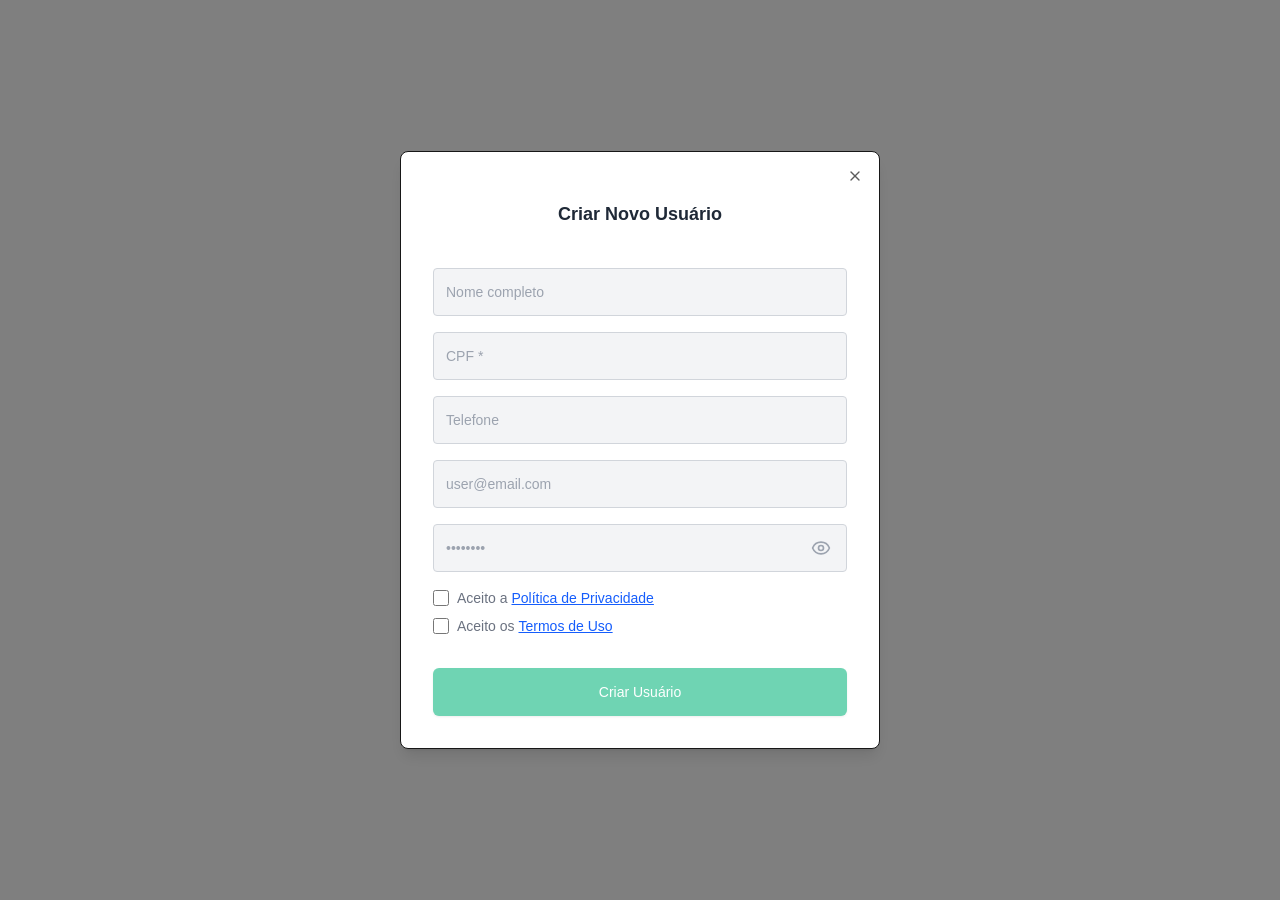
it: CreateUserModal › handles registration error
The image size is (1280, 900).
Preenche o formulário
Type "João Silva" into the field with placeholder "Nome completo" at (640, 292), box [433,268,847,316]
Type "12345678901" into the field with placeholder "CPF *" at (640, 356), box [433,332,847,380]
Type "11987654321" into the field with placeholder "Telefone" at (640, 420), box [433,396,847,444]
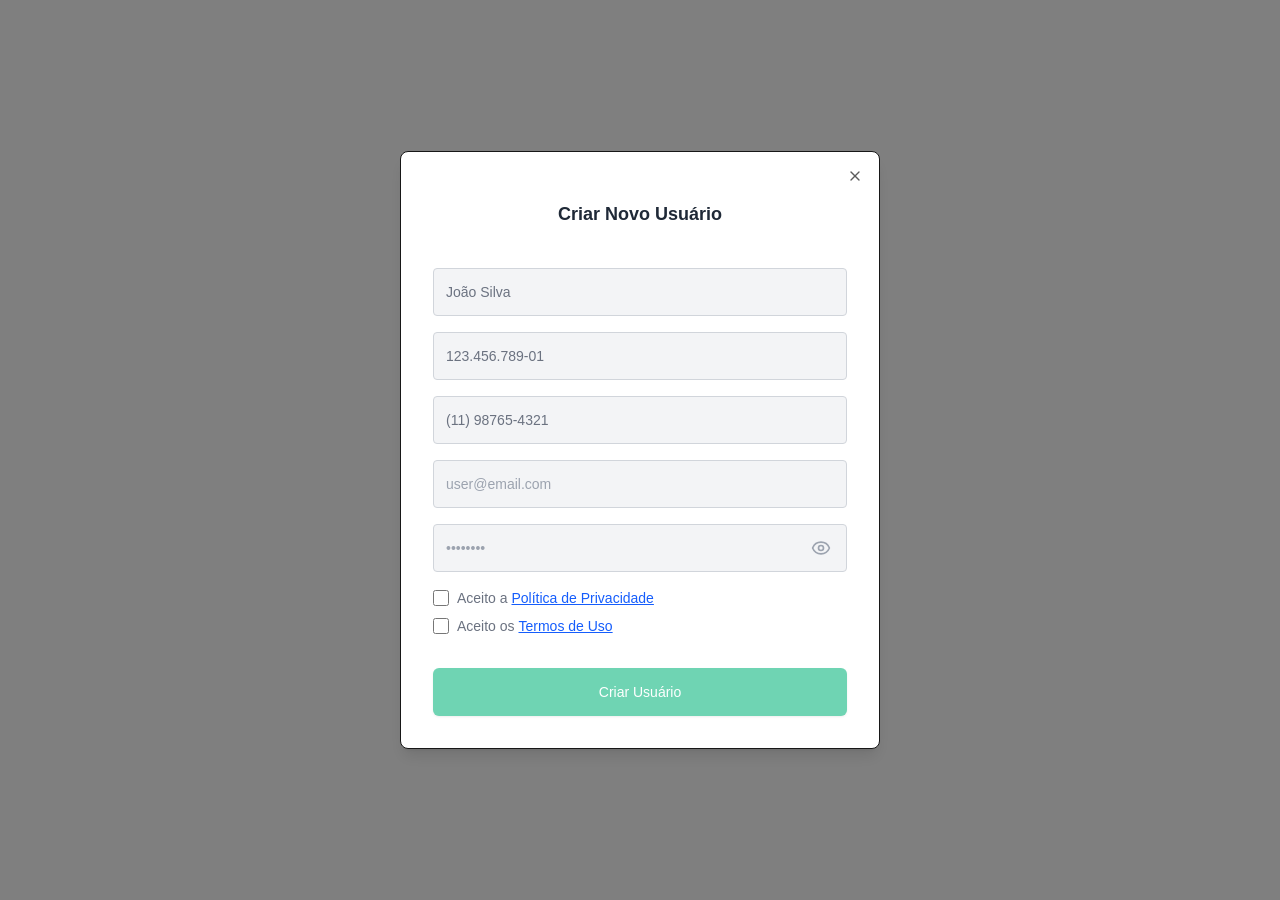
Type "joao@example.com" into the field with placeholder "user@email.com" at (640, 484), box [433,460,847,508]
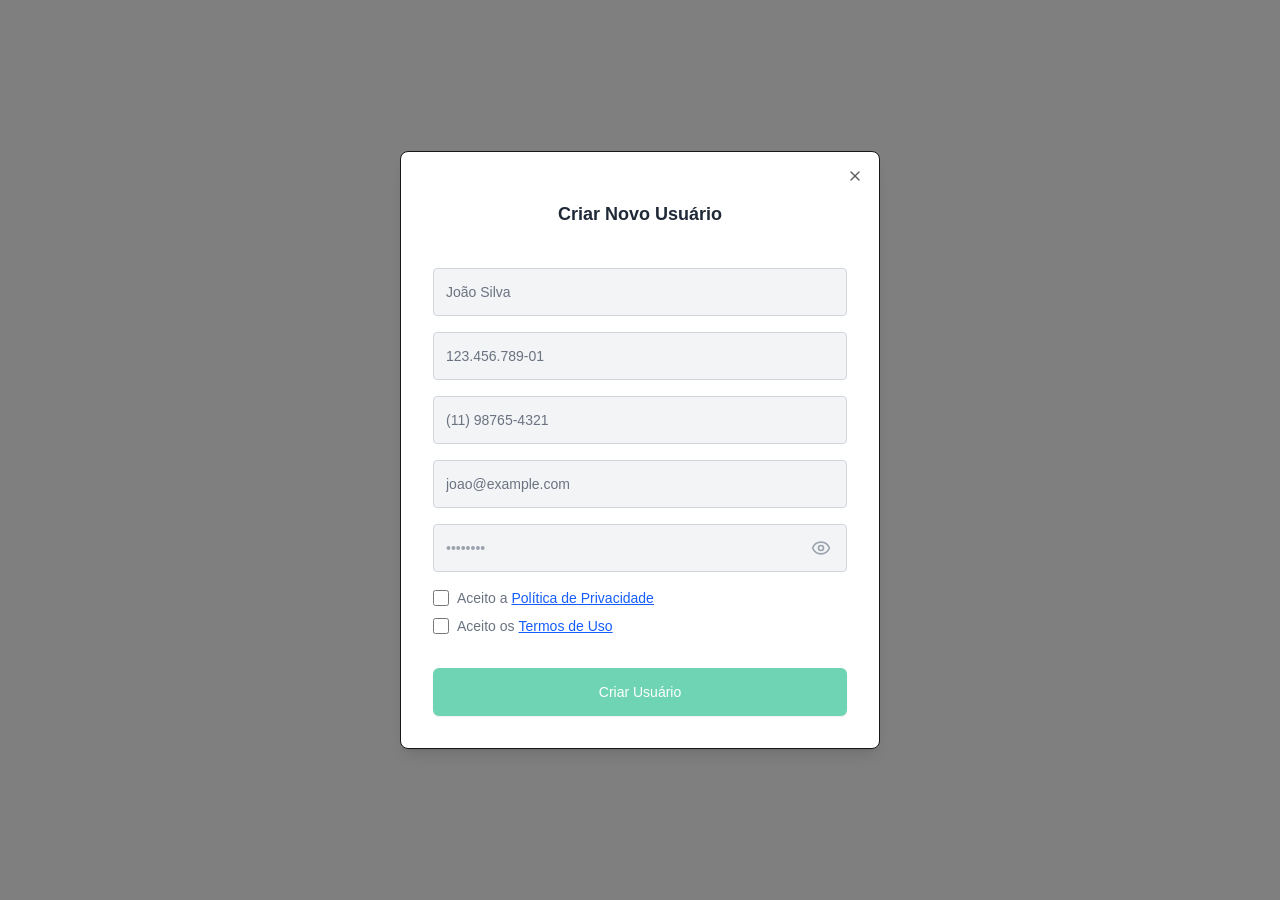
Type "password123" into the password field with placeholder "••••••••" at (640, 548), box [433,524,847,572]
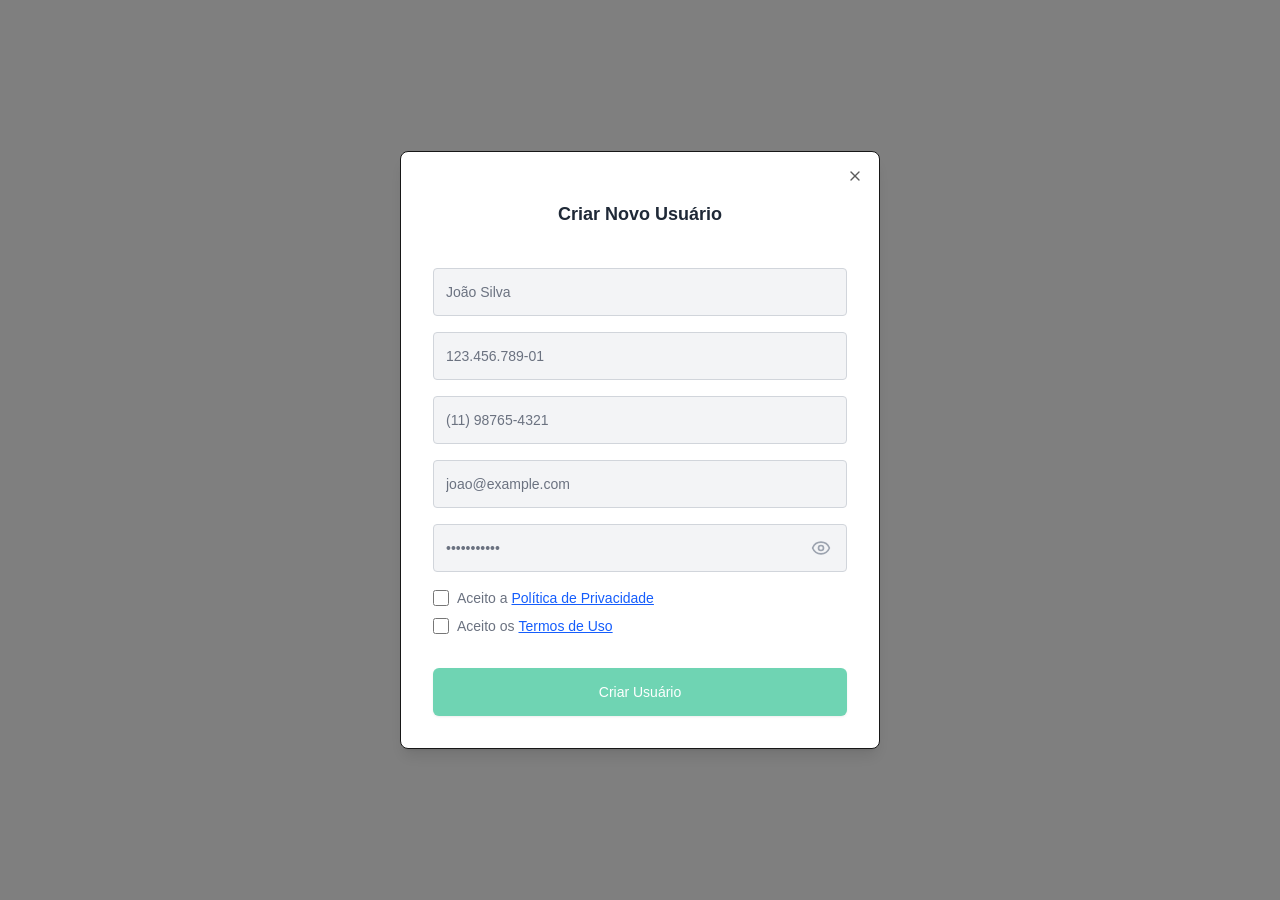
Click the checkbox labelled "Aceito a Política de Privacidade" at (441, 598), box [433,590,449,606]
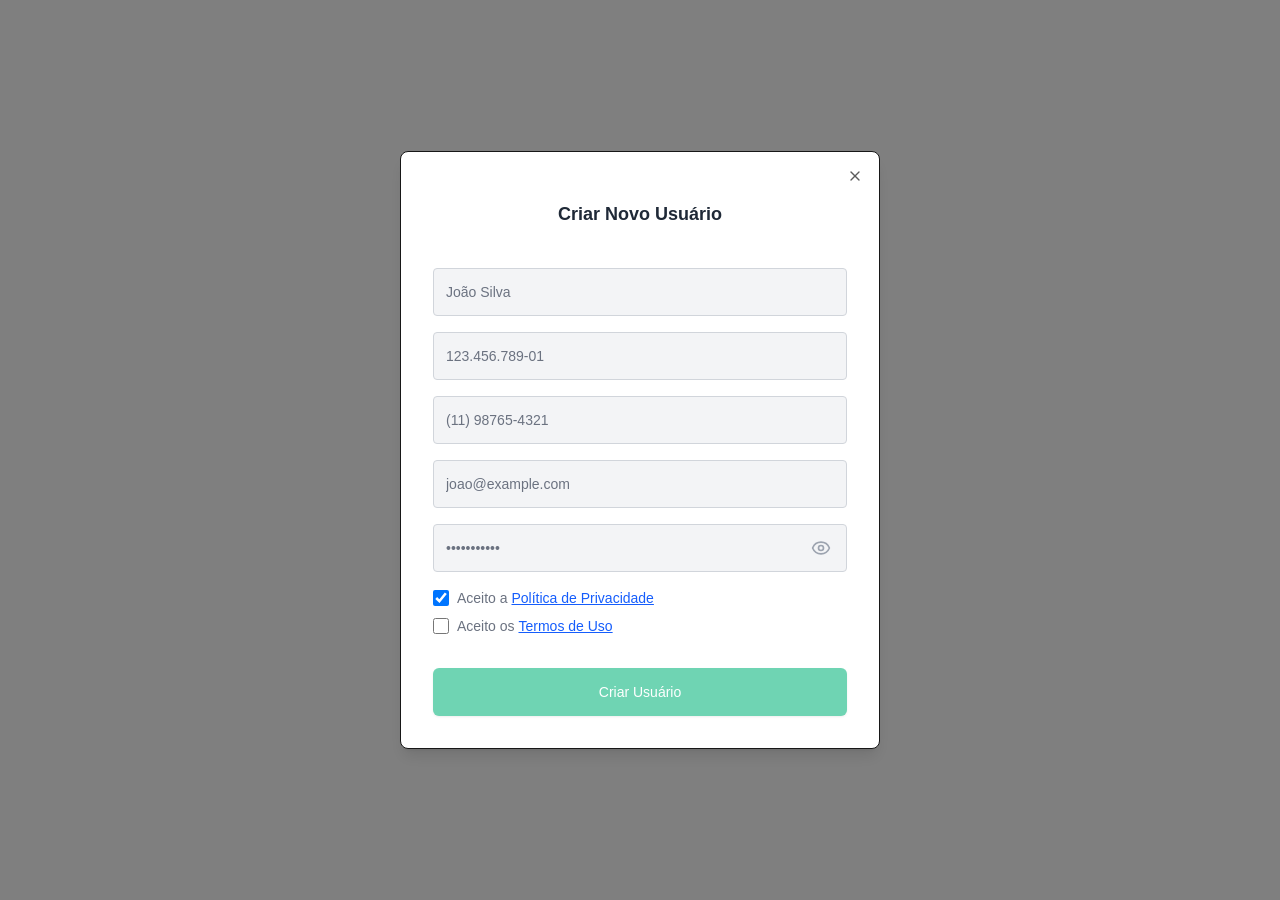
Click the checkbox labelled "Aceito os Termos de Uso" at (441, 626), box [433,618,449,634]
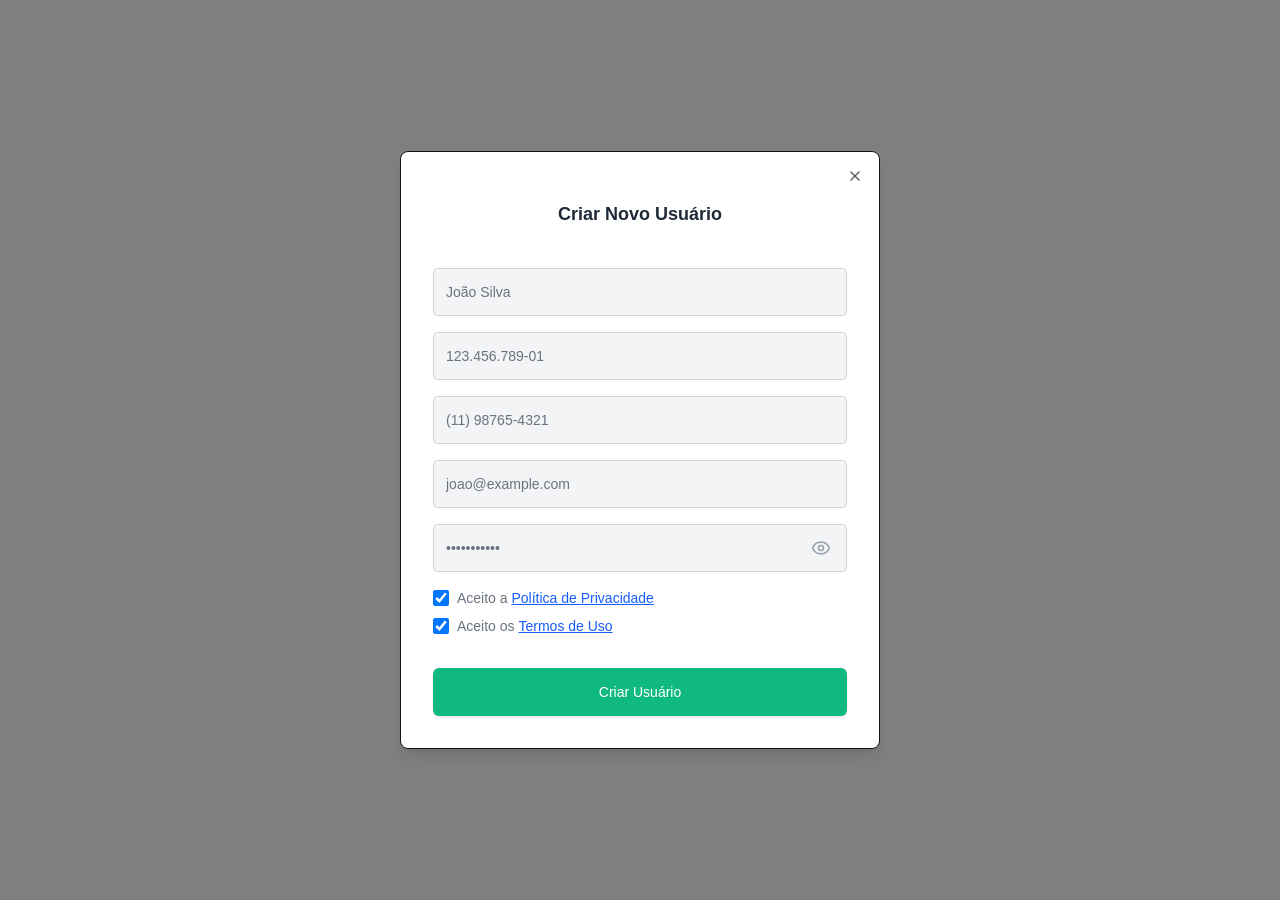
Submete o formulário
Click the button "Criar Usuário" at (640, 692), box [433,668,847,716]
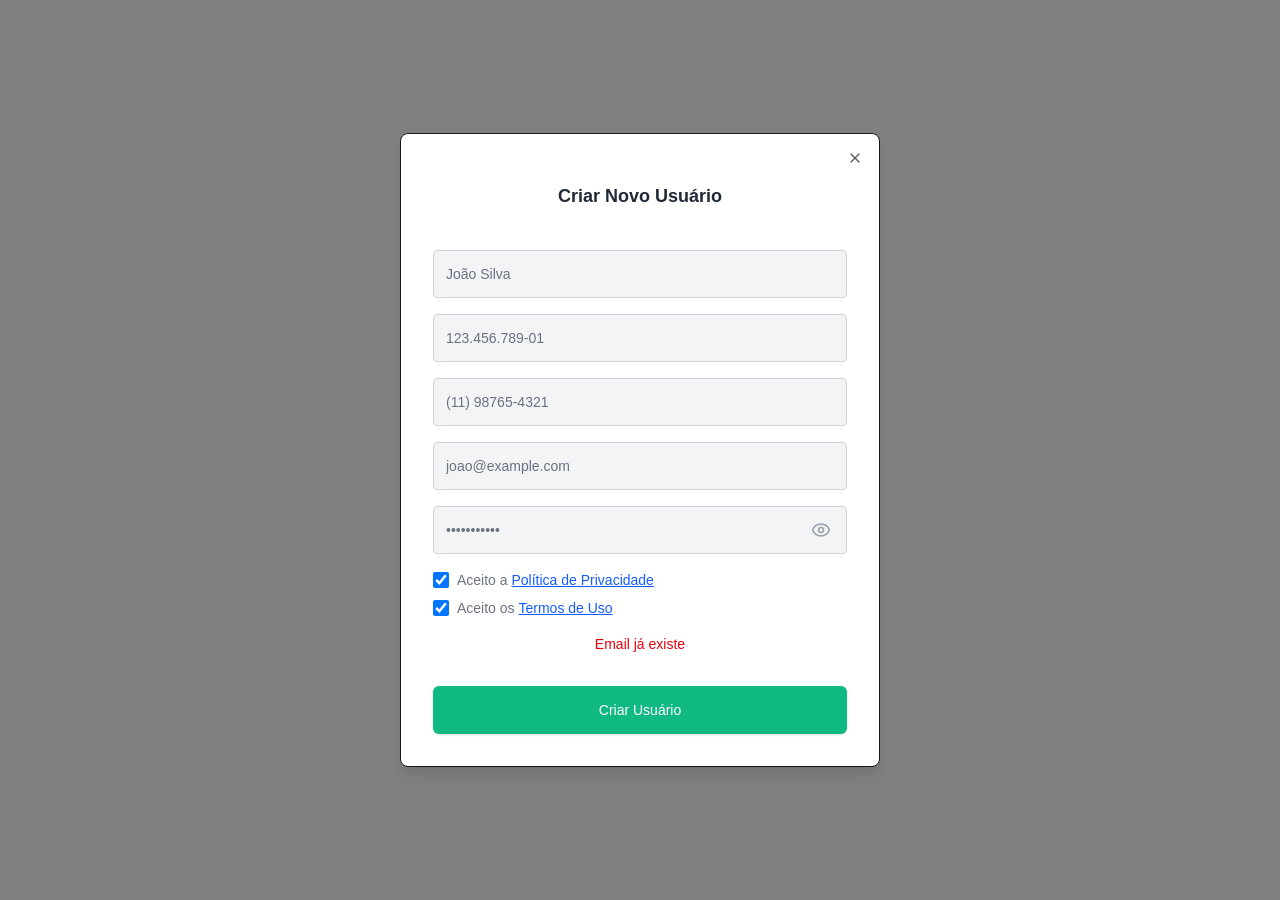
expect the text "Email já existe" is shown: met, box [595,636,685,652]
